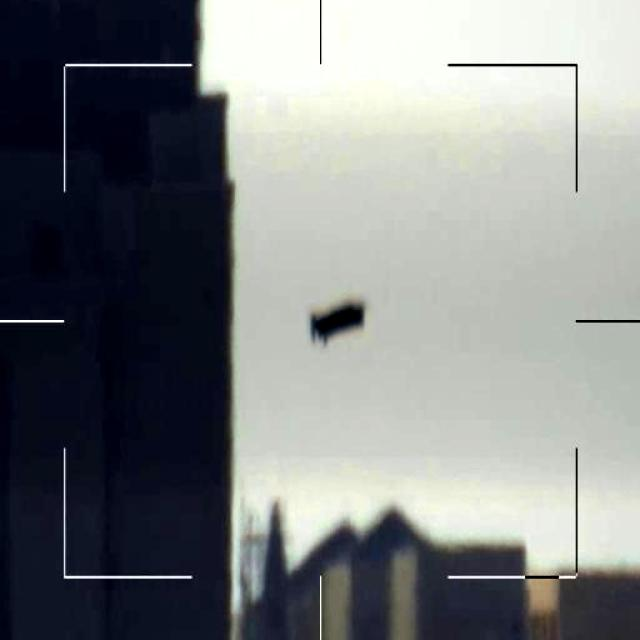bird: (309, 304, 362, 346)
